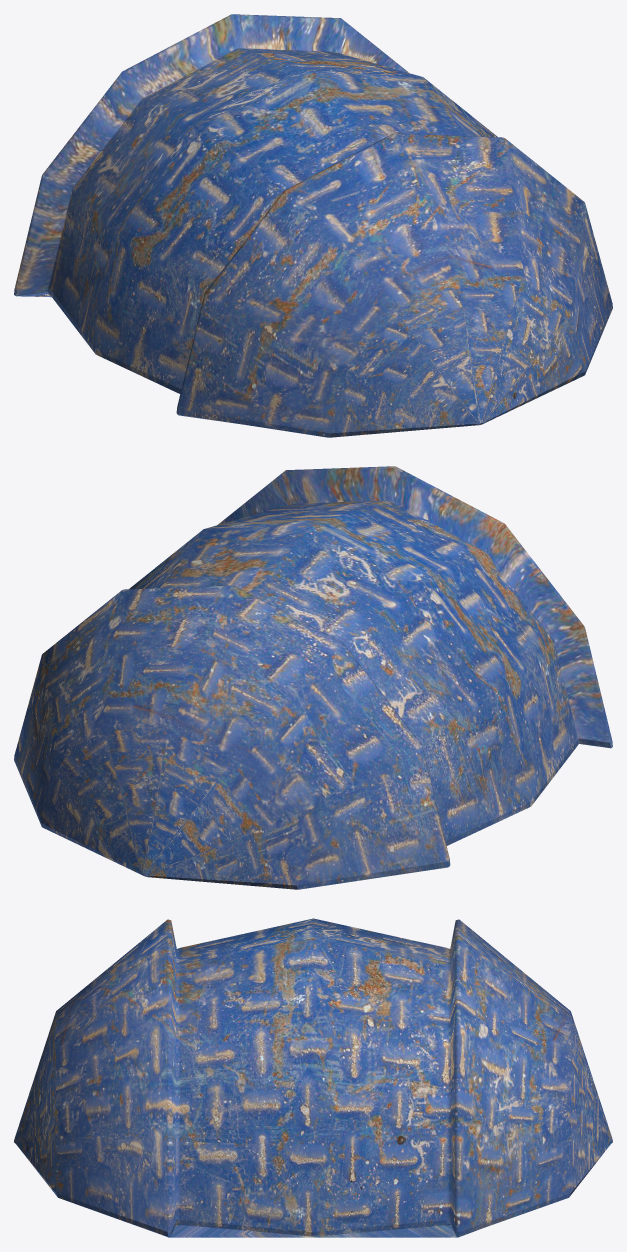
File: mass_miner.FBX
The picture shows the model from 3 angles, top to bottom: view 1: azimuth 30°, elevation 25°; view 2: azimuth 150°, elevation 25°; view 3: azimuth 270°, elevation 25°; orthographic projection. The views are drawn at different scales.
Visible parts, largest first — view 1: kopia01; view 2: kopia01; view 3: kopia01.
Part boxes in pixels (x1=…): kopia01: x1=14, y1=14, x2=612, y2=437; kopia01: x1=14, y1=466, x2=612, y2=889; kopia01: x1=14, y1=918, x2=612, y2=1237.
Size of the model in its own units: 132 by 66.33 by 176.
Materials: 1 (1 with a texture image).
